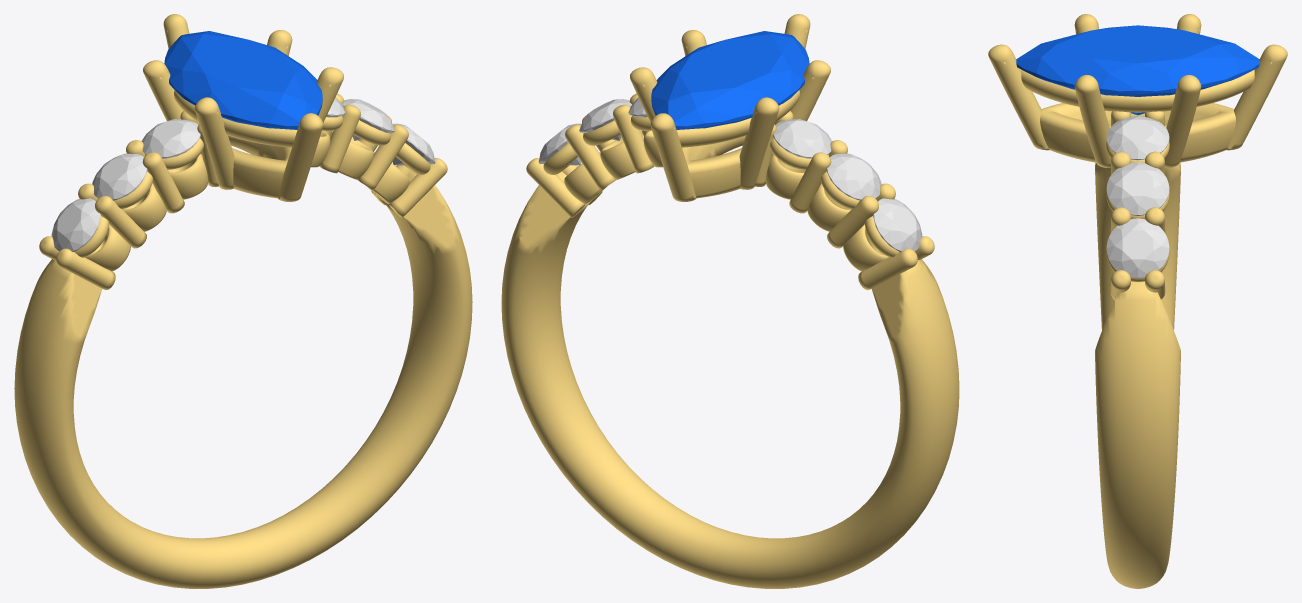
File: bluesapphire-marquise-yellowgold-6prong-taperedband-7stone.glb
3 views of the same model, side by side, from view 1: azimuth 30°, elevation 25°; view 2: azimuth 150°, elevation 25°; view 3: azimuth 270°, elevation 25° (orthographic).
Visible parts, largest first — view 1: metal.001, stone.001, side.001, side.008, side.009, side.011, side.010; view 2: metal.001, stone.001, side.001, side.008, side.009, side.011, side.010; view 3: metal.001, stone.001, side.010, side.011, side.012.
Part boxes in pixels (x1=…): metal.001: x1=14, y1=14, x2=472, y2=588; stone.001: x1=164, y1=31, x2=322, y2=129; side.001: x1=51, y1=198, x2=100, y2=251; side.008: x1=92, y1=153, x2=147, y2=200; side.009: x1=141, y1=119, x2=200, y2=158; side.011: x1=342, y1=99, x2=394, y2=140; side.010: x1=392, y1=123, x2=435, y2=165; metal.001: x1=501, y1=14, x2=959, y2=588; stone.001: x1=651, y1=31, x2=809, y2=129; side.001: x1=873, y1=198, x2=922, y2=251; side.008: x1=826, y1=153, x2=881, y2=200; side.009: x1=773, y1=119, x2=832, y2=158; side.011: x1=579, y1=99, x2=631, y2=140; side.010: x1=538, y1=123, x2=581, y2=165; metal.001: x1=988, y1=14, x2=1287, y2=588; stone.001: x1=1016, y1=25, x2=1259, y2=115; side.010: x1=1106, y1=218, x2=1169, y2=278; side.011: x1=1106, y1=162, x2=1169, y2=215; side.012: x1=1106, y1=116, x2=1169, y2=160.
Size of the model in its own units: 20.5 by 22.92 by 11.96.
